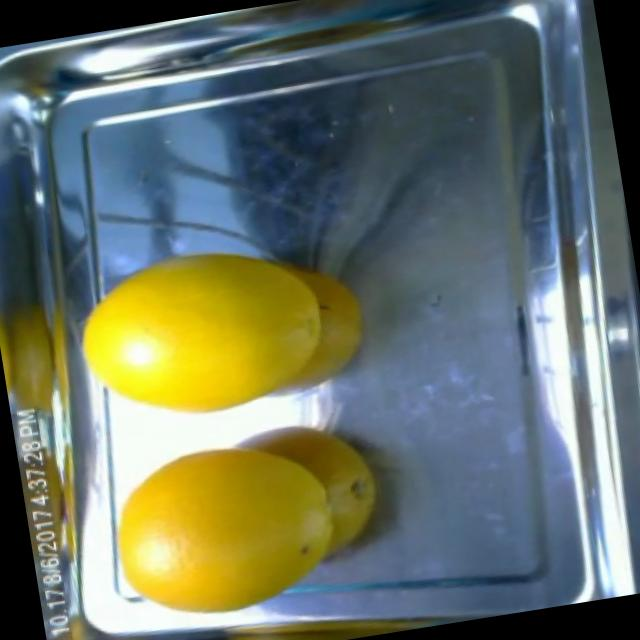Fruit: (59, 228, 280, 439)
